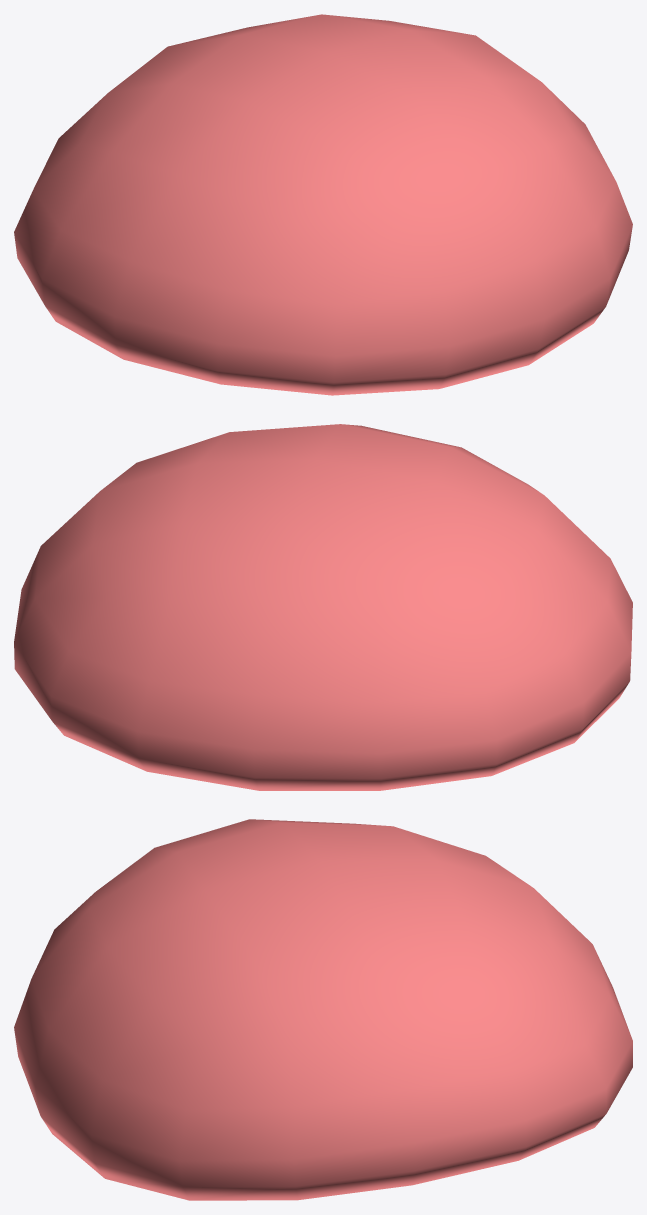
The model's file is nurDach.fbx.
The picture shows the model from 3 angles, top to bottom: view 1: azimuth 30°, elevation 25°; view 2: azimuth 150°, elevation 25°; view 3: azimuth 270°, elevation 25°; orthographic projection. The views are drawn at different scales.
Parts seen in each view (by area): view 1: pilz197; view 2: pilz197; view 3: pilz197.
Boxes of the visible parts, box(x1,y1,x2,y2) form: pilz197: box(14, 14, 632, 395); pilz197: box(14, 424, 632, 790); pilz197: box(14, 819, 632, 1200).
Bounding box in the file's own units: 26.87 × 11.16 × 26.19.
